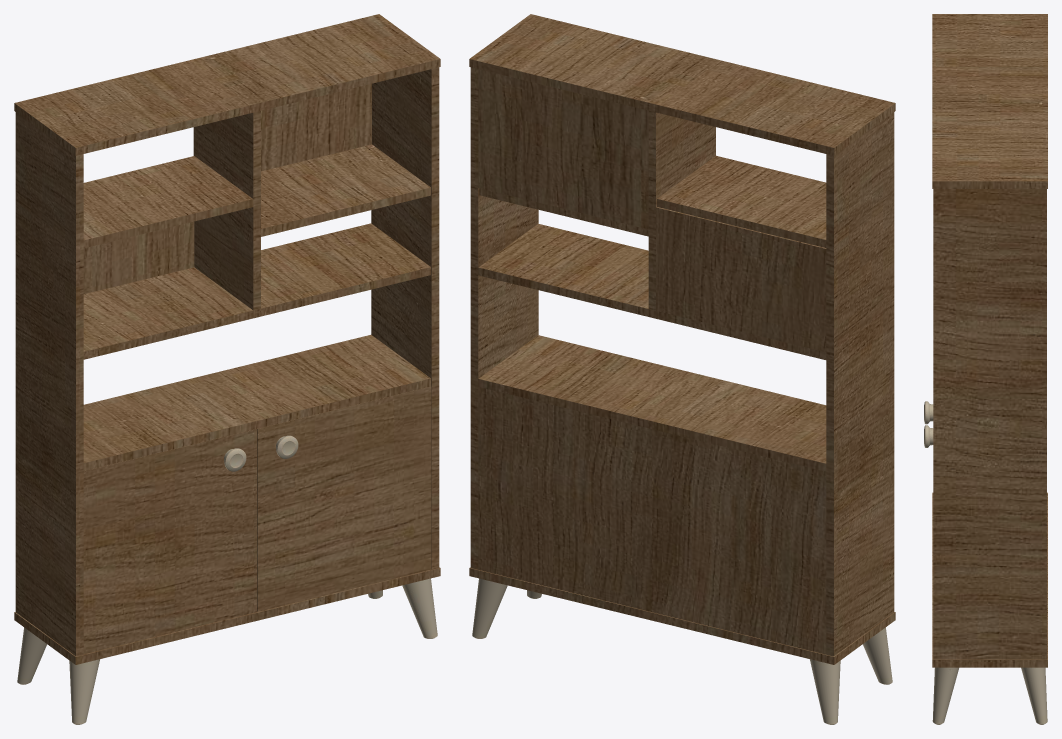
Rendered from Wooden_door.fbx.
3 views of the same model, side by side, from view 1: azimuth 30°, elevation 25°; view 2: azimuth 150°, elevation 25°; view 3: azimuth 270°, elevation 25° (orthographic). The views are drawn at different scales.
Visible parts, largest first — view 1: Door; view 2: Door; view 3: Door.
Boxes of the visible parts, left/top/right/bottom form: Door: left=14, top=14, right=440, bottom=724; Door: left=469, top=14, right=895, bottom=724; Door: left=924, top=14, right=1047, bottom=724.
Size of the model in its own units: 120 by 182 by 37.54.
